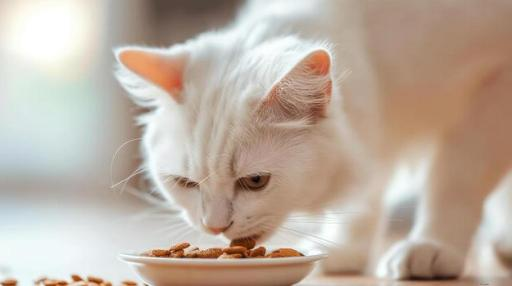cat_eating: (116, 0, 512, 286)
